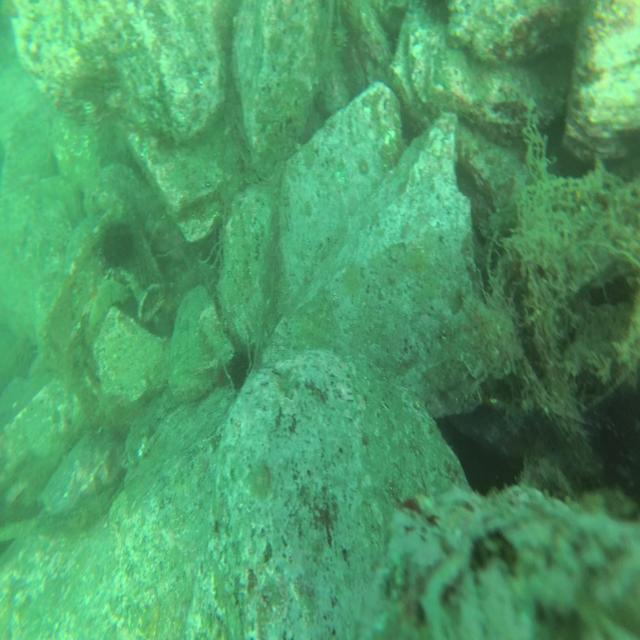echinus: (102, 220, 134, 272)
